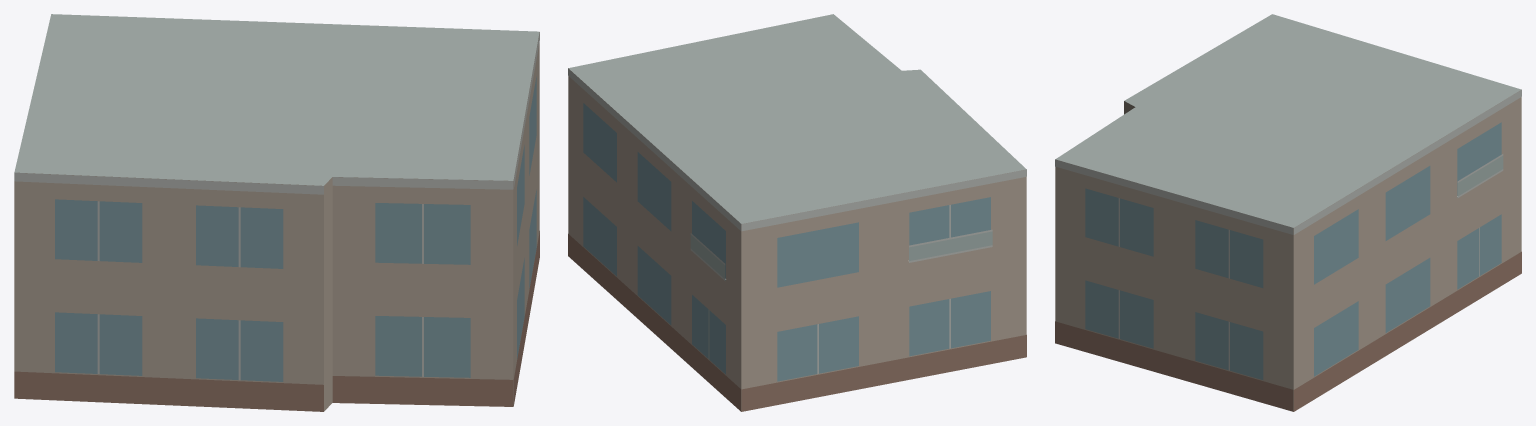
The model's file is survey-upis-32658232.glb.
3 renders of one model, left to right at view 1: azimuth 30°, elevation 25°; view 2: azimuth 150°, elevation 25°; view 3: azimuth 270°, elevation 25°, orthographic. The views are drawn at different scales.
Parts seen in each view (by area): view 1: survey-upis-32658232.tmp; view 2: survey-upis-32658232.tmp; view 3: survey-upis-32658232.tmp.
Part boxes in pixels (left/top/right/bottom): survey-upis-32658232.tmp: left=14, top=14, right=539, bottom=411; survey-upis-32658232.tmp: left=568, top=14, right=1026, bottom=411; survey-upis-32658232.tmp: left=1055, top=14, right=1521, bottom=411.
Bounding box in the file's own units: 15.47 × 6.2 × 14.26.
